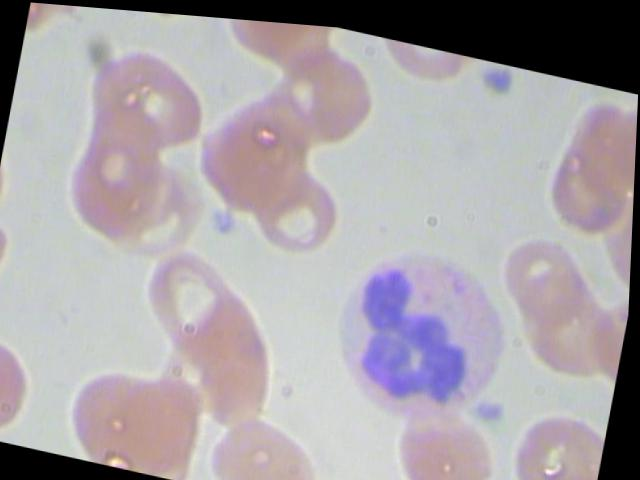Platelets: (470, 384, 514, 423), (202, 197, 246, 236), (478, 53, 522, 90)
Red Blood Cells: (69, 30, 225, 161), (54, 347, 204, 478), (52, 112, 180, 254), (260, 31, 394, 158), (133, 235, 254, 357), (496, 222, 624, 337), (506, 259, 631, 375), (544, 79, 637, 232), (241, 149, 360, 261), (202, 79, 320, 191), (200, 390, 334, 479), (0, 313, 59, 448)
White Blood Cells: (327, 222, 530, 434)
